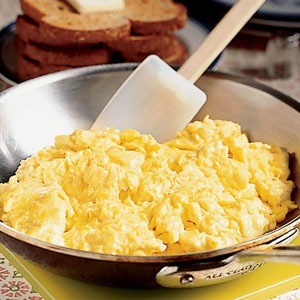egg_brain food: (38, 141, 239, 245)
